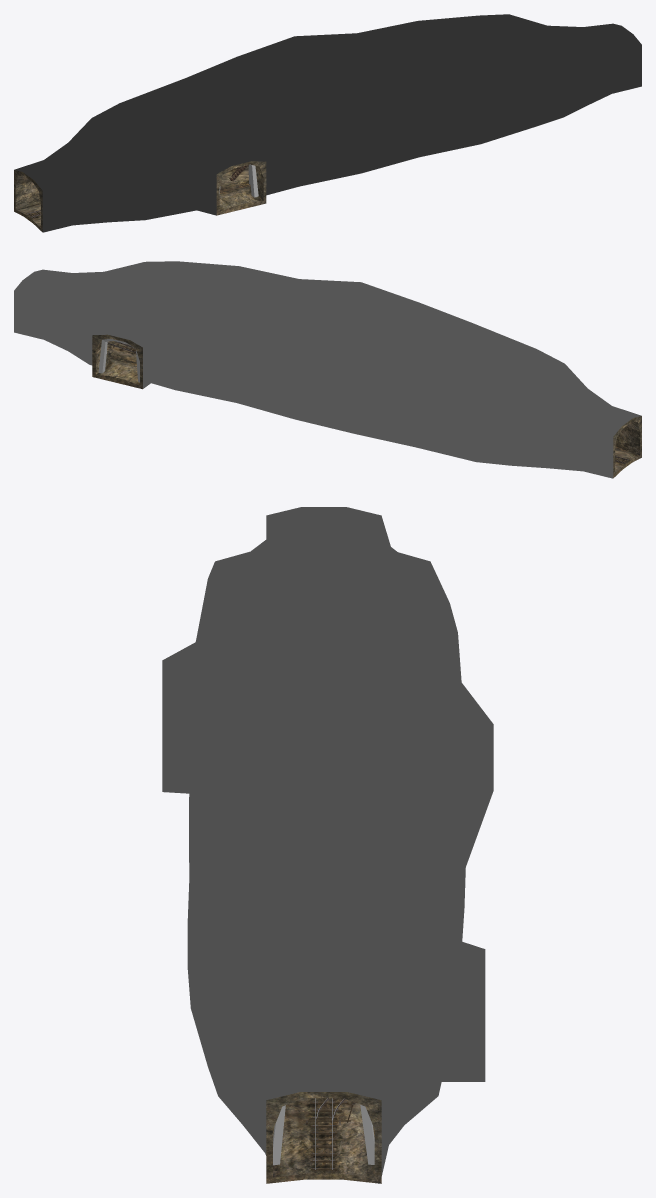
Rendered from svgoldmine03.dae.
The picture shows the model from 3 angles, top to bottom: view 1: azimuth 30°, elevation 25°; view 2: azimuth 150°, elevation 25°; view 3: azimuth 270°, elevation 25°; orthographic projection. The views are drawn at different scales.
Parts seen in each view (by area): view 1: cube2265_sep107-0; view 2: cube2265_sep107-0, cube2265_extract167-0; view 3: cube2265_sep107-0, cube2265_cut4529-0, cube2265_extract167-0.
Part boxes in pixels (<box>): cube2265_sep107-0: <box>14,14,641,232</box>; cube2265_sep107-0: <box>14,261,641,478</box>; cube2265_extract167-0: <box>98,338,139,382</box>; cube2265_sep107-0: <box>162,507,493,1183</box>; cube2265_cut4529-0: <box>303,1098,353,1171</box>; cube2265_extract167-0: <box>273,1104,374,1165</box>.
Size of the model in its own units: 18000 by 2639 by 4307.
